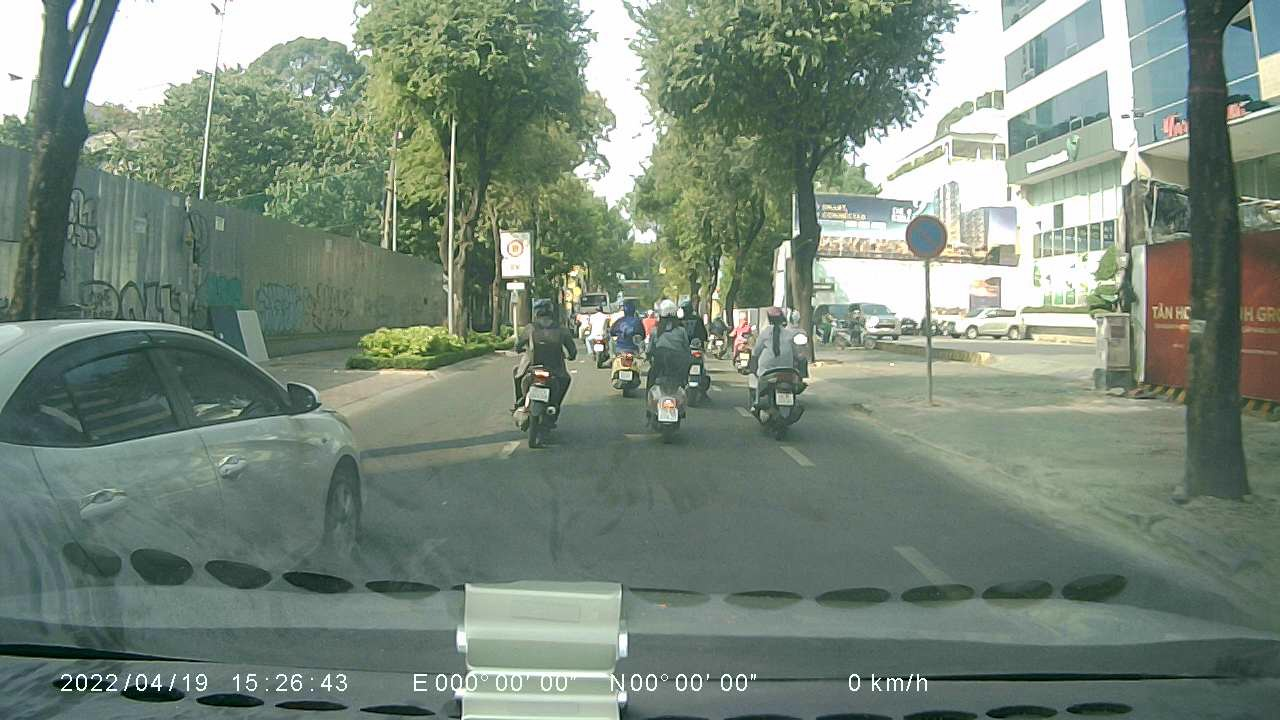Cam do xe: (903, 213, 950, 258)
